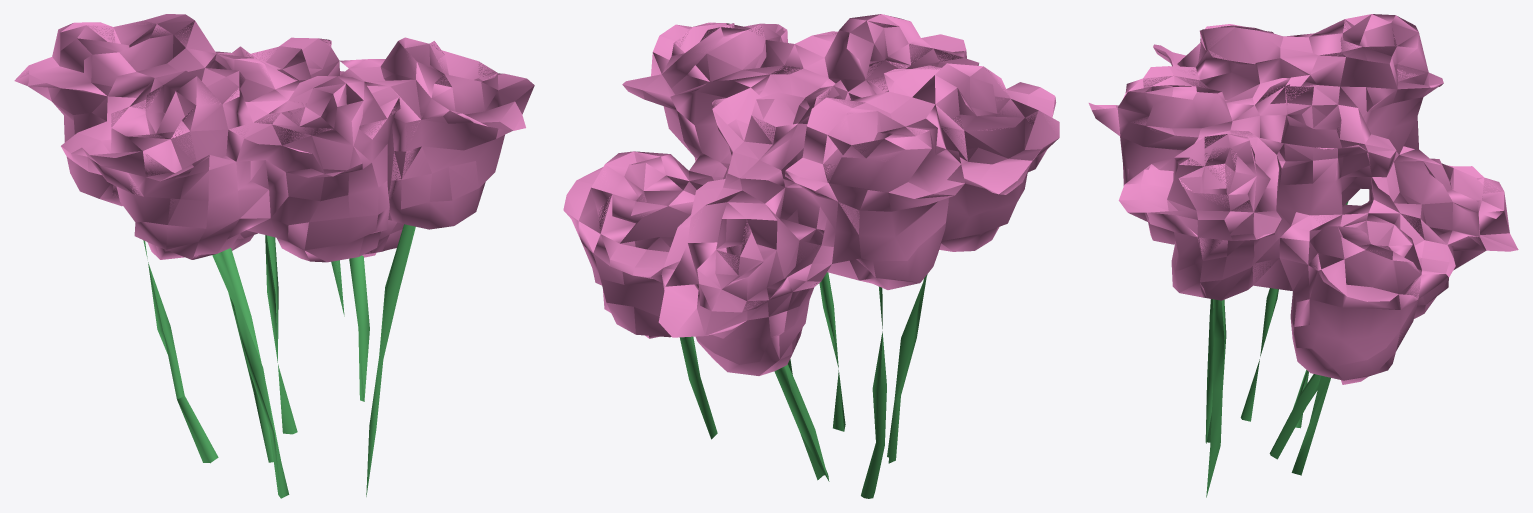
The picture shows the model from 3 angles, left to right: view 1: azimuth 30°, elevation 25°; view 2: azimuth 150°, elevation 25°; view 3: azimuth 270°, elevation 25°; orthographic projection. The views are drawn at different scales.
Parts seen in each view (by area): view 1: 147016ed; view 2: 147016ed; view 3: 147016ed.
Part boxes in pixels (x1=…): 147016ed: x1=14, y1=14, x2=534, y2=498; 147016ed: x1=563, y1=14, x2=1059, y2=498; 147016ed: x1=1088, y1=14, x2=1518, y2=497.
Bounding box in the file's own units: 0.1418 × 0.1446 × 0.1395.
